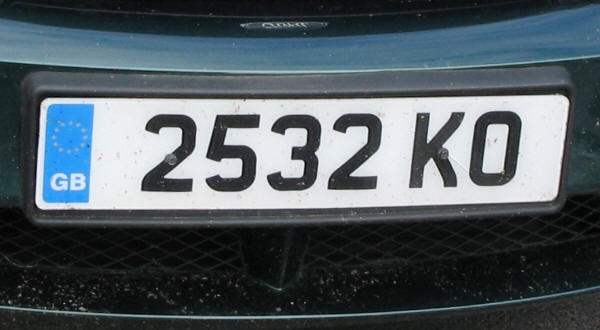license_plate: (35, 96, 570, 210)
